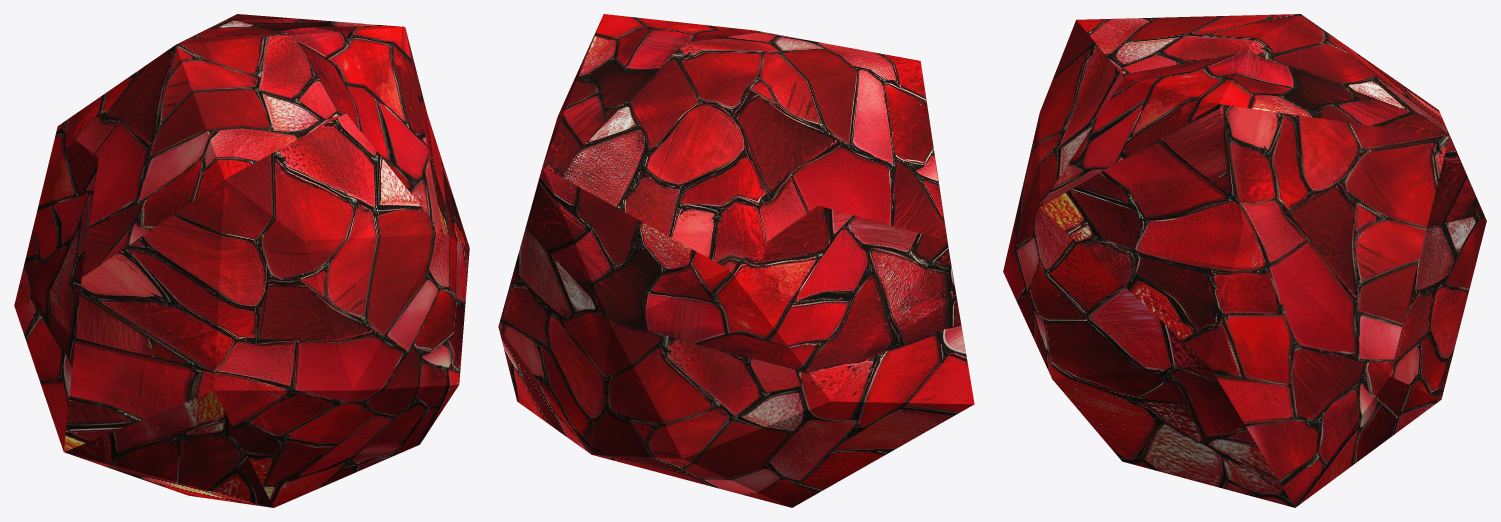
File: star3RedCompressed.glb
3 renders of one model, left to right at view 1: azimuth 30°, elevation 25°; view 2: azimuth 150°, elevation 25°; view 3: azimuth 270°, elevation 25°, orthographic. The views are drawn at different scales.
Visible parts, largest first — view 1: star3; view 2: star3; view 3: star3.
Boxes of the visible parts, x1,y1,x2,y2 form: star3: (14,14,469,507); star3: (498,14,974,507); star3: (1003,14,1486,507).
Size of the model in its own units: 1 by 1 by 1.
Materials: 1 (1 with a texture image).
